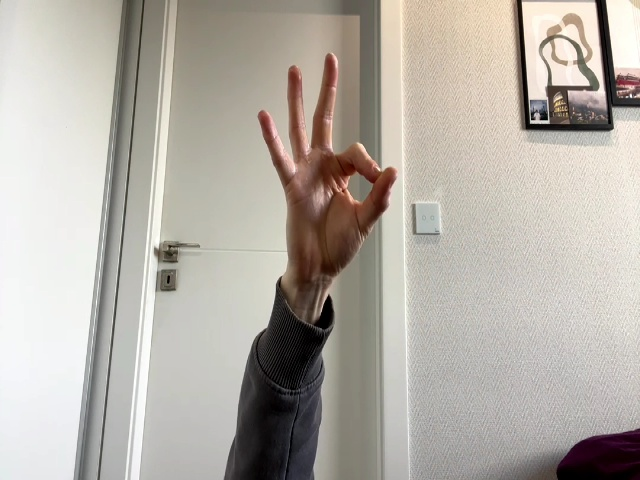O: (257, 52, 398, 286)
